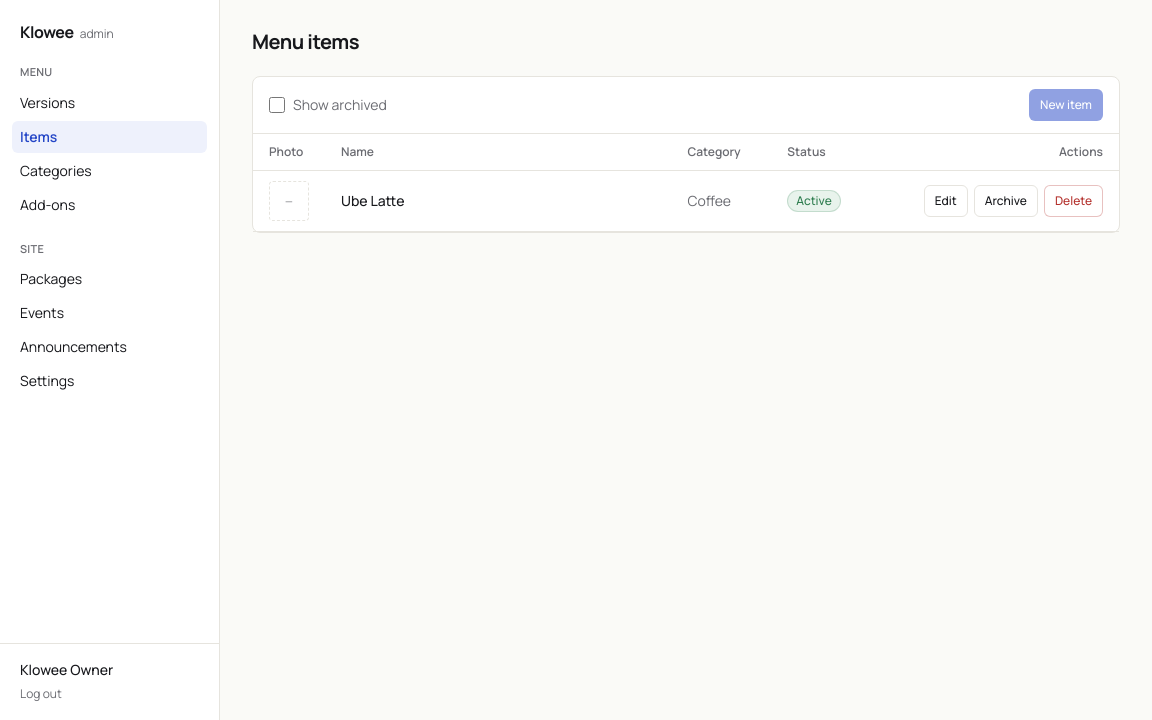
ItemsPage › shows the API 409 message in a toast when a referenced item cannot be deleted
Click the button "Delete".
click(1073, 201)  # box 1044,185 -> 1103,217
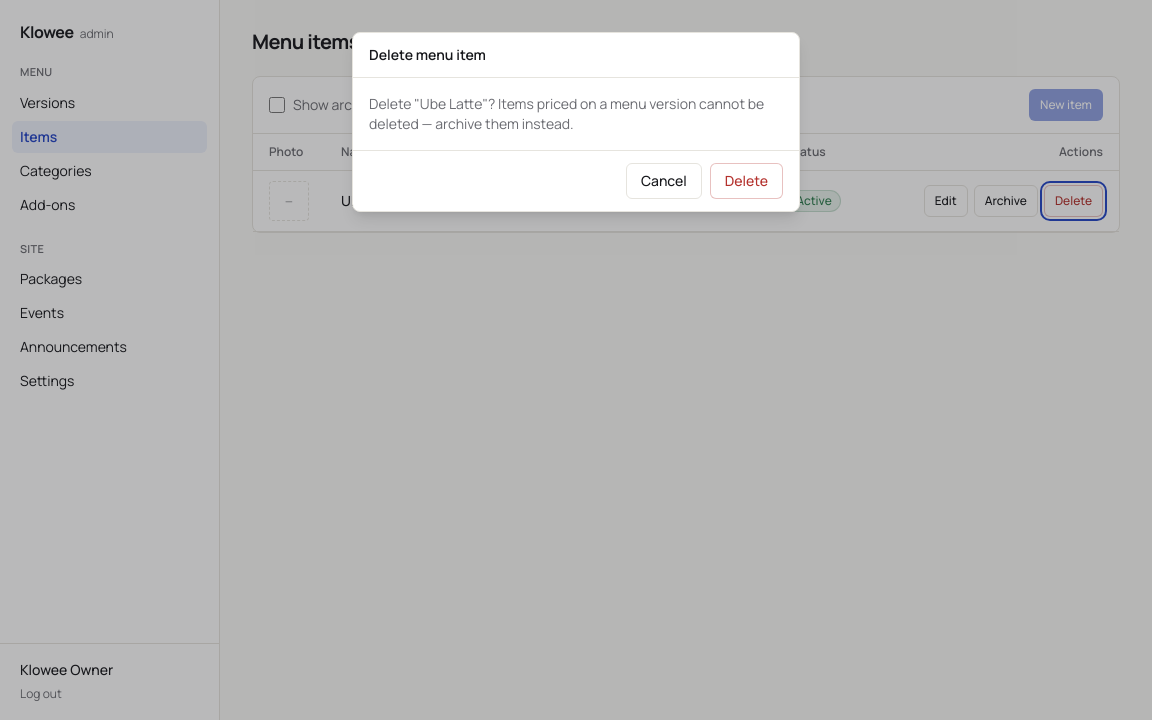
Click the button "Delete".
click(746, 181)  # box 710,163 -> 783,199
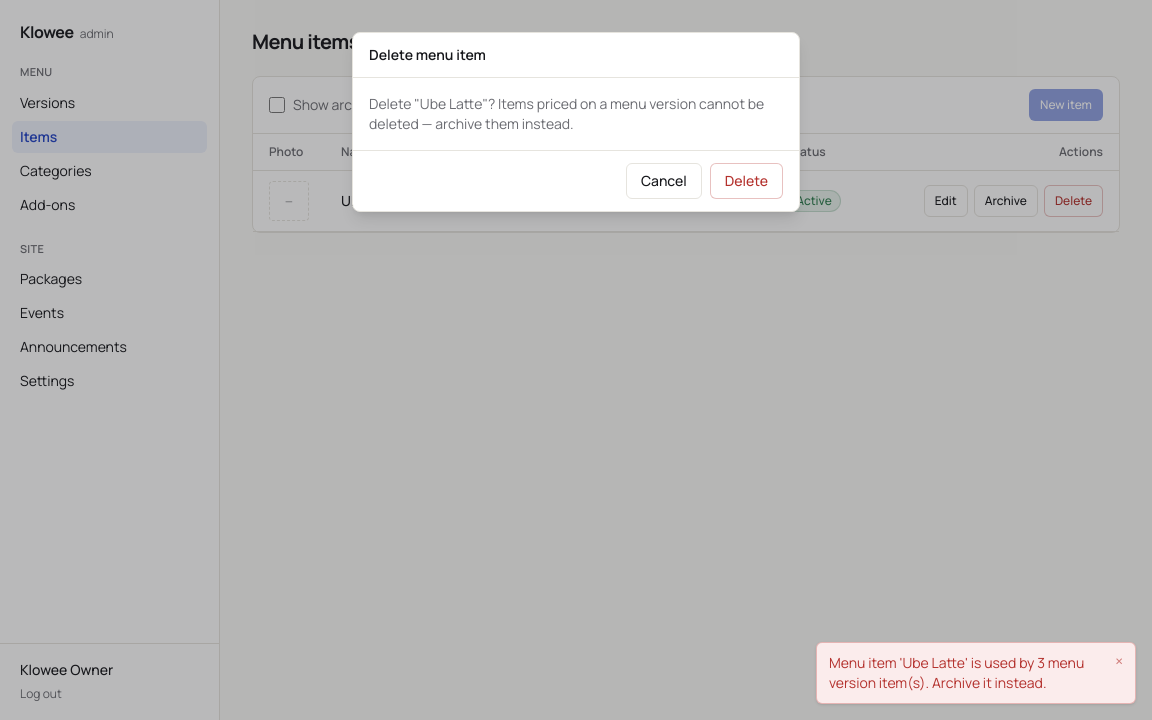
Now the text "Menu item 'Ube Latte' is used by 3 menu version item(s). Archive it instead." is shown, box 829,653 -> 1103,693
